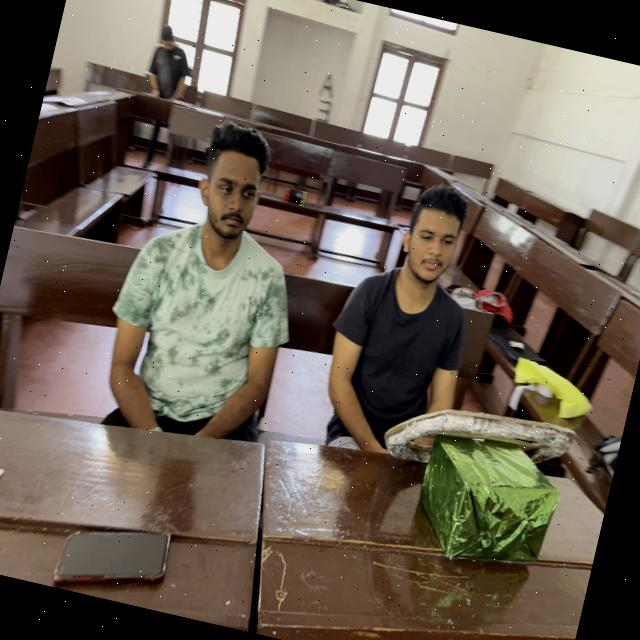no-seatbelt: (73, 212, 295, 501), (293, 257, 476, 488)
